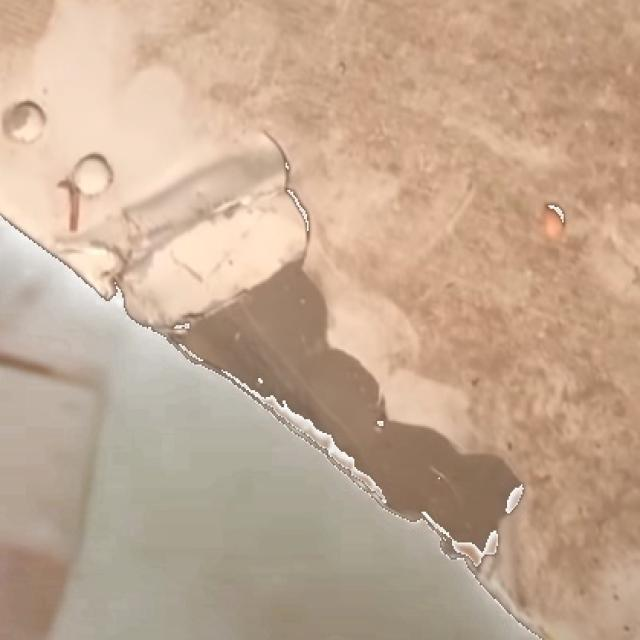crack: (261, 126, 332, 229)
